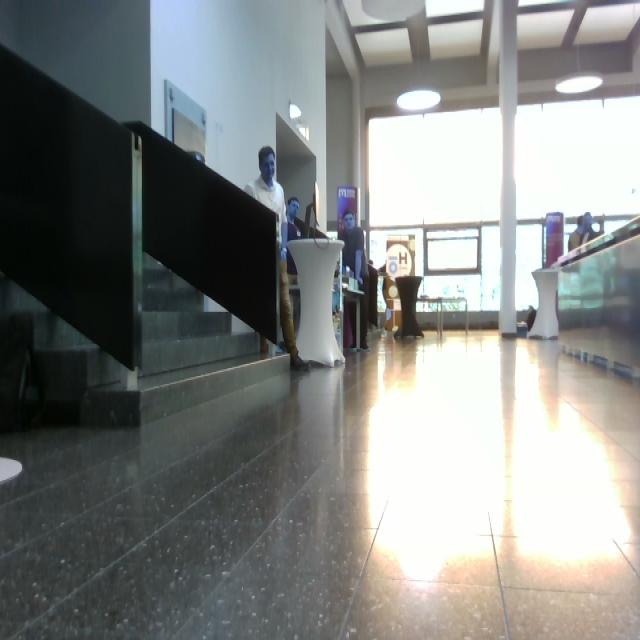door: (127, 120, 266, 377)
light bulb: (555, 47, 604, 95), (361, 1, 426, 24), (555, 72, 604, 94), (397, 89, 441, 112), (289, 102, 302, 120)
person: (244, 146, 312, 372), (338, 209, 370, 352)
pillar: (498, 1, 519, 336)
table: (286, 236, 350, 372)
tiled floor: (2, 324, 639, 638)
window: (367, 93, 639, 318)
